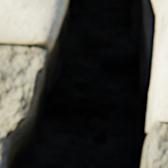broken_brick: (0, 0, 63, 46), (154, 14, 167, 122)
crack: (0, 0, 167, 167)
